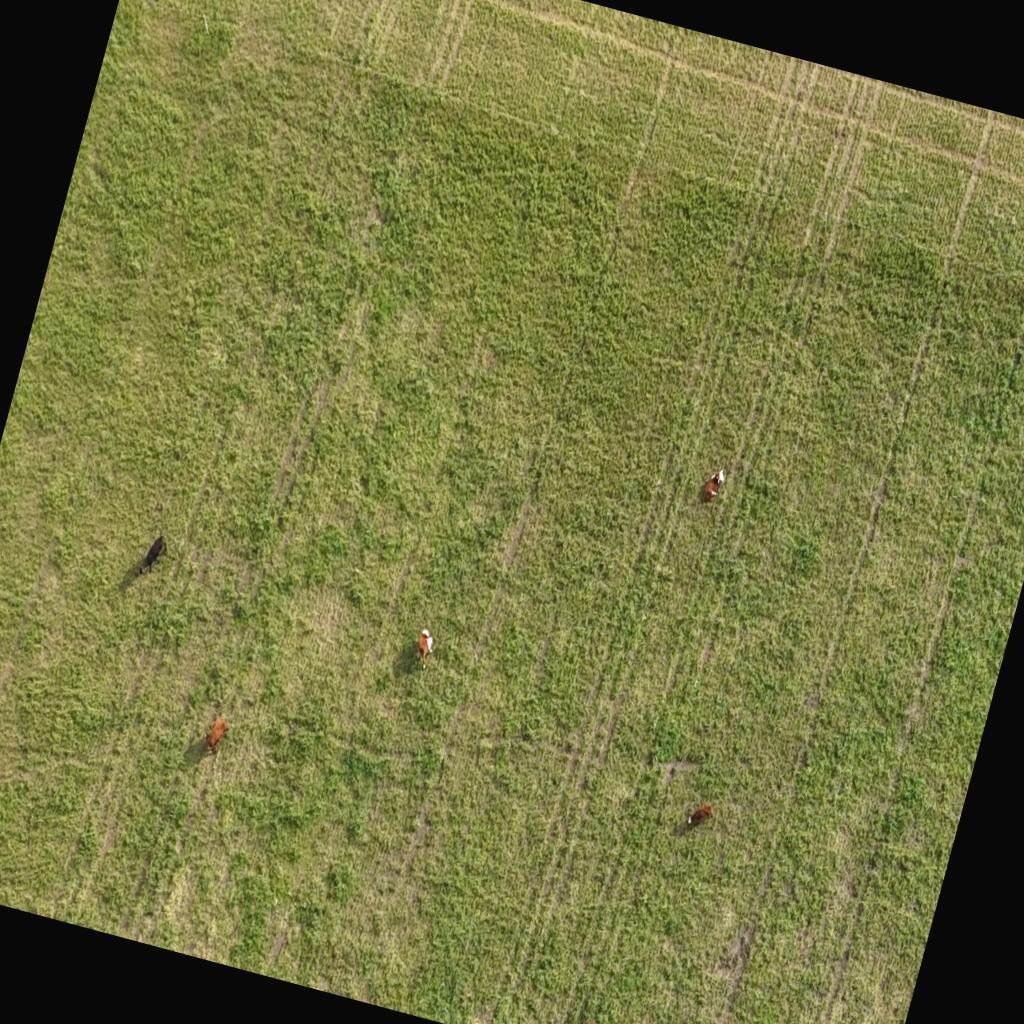cow: (119, 528, 172, 600), (180, 710, 230, 774), (678, 792, 722, 842), (408, 620, 444, 672), (552, 990, 606, 1024), (702, 460, 730, 502)
